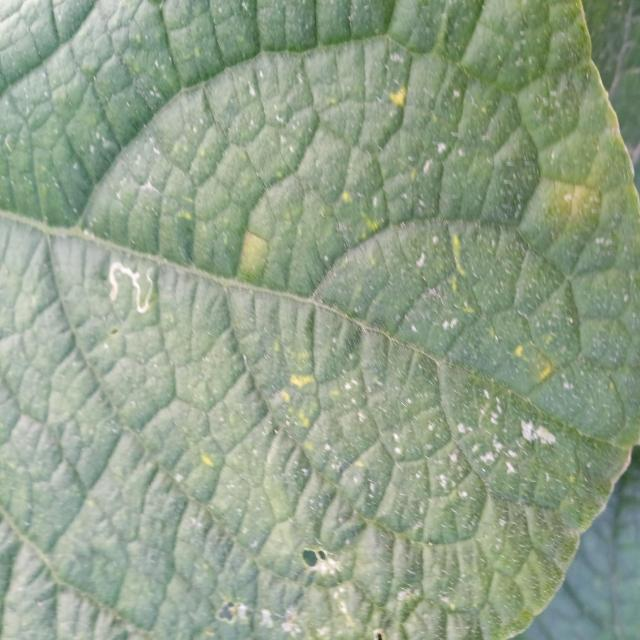cucumber_downy: (3, 23, 640, 611)
